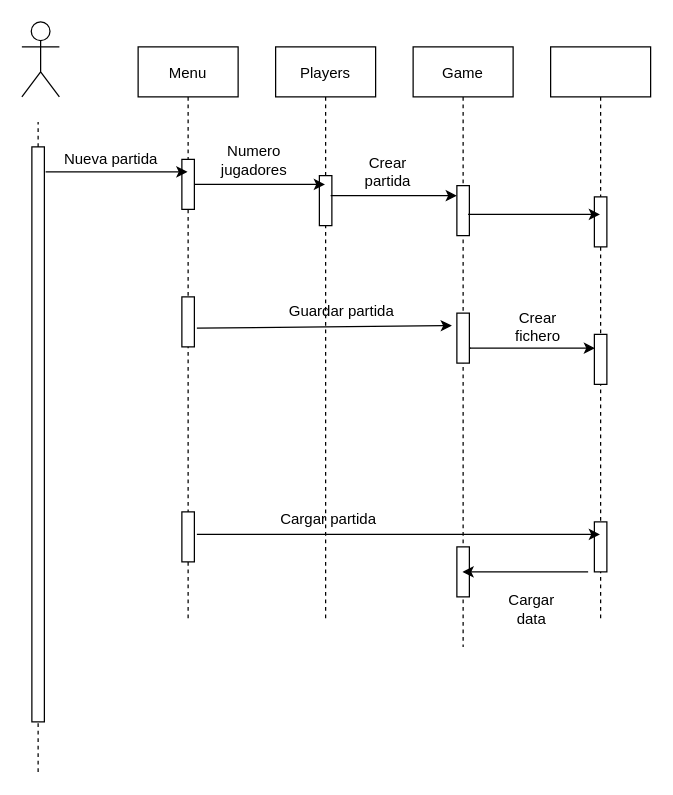
The diagram is 673 pixels wide and 795 high, and some of its shapes have lost their labels. The centre of each missing label's shape, as x and y in pixels:
"Actor" goes at (x=40, y=59).
"File" goes at (x=600, y=334).
